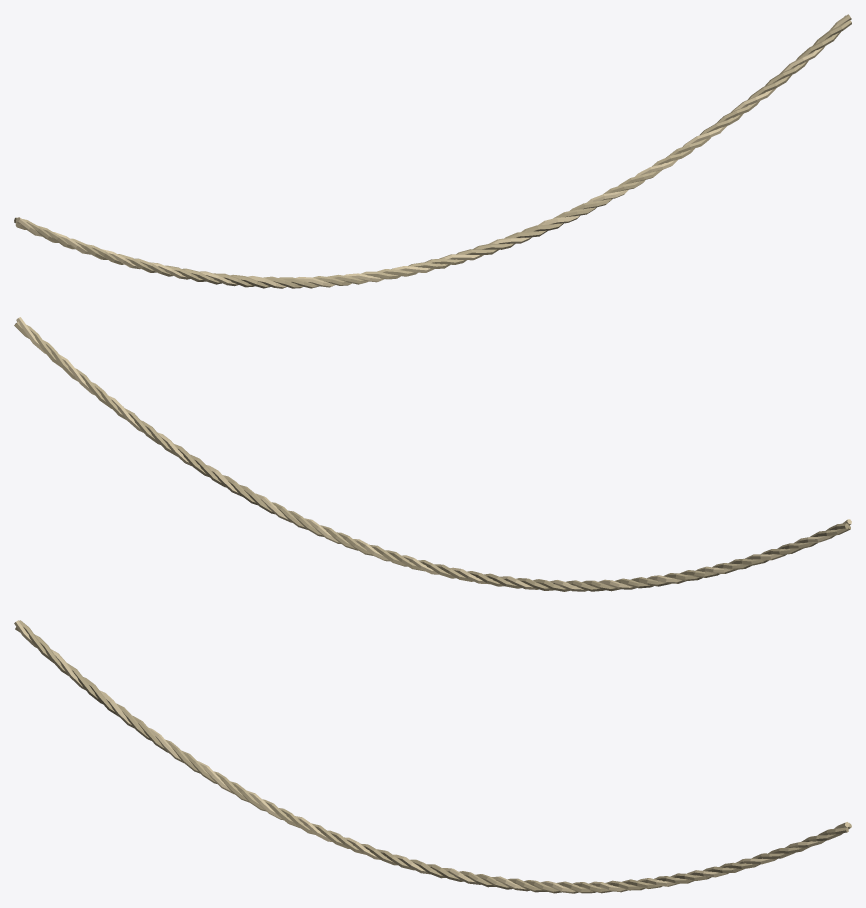
File: BridgeRope.glb
3 renders of one model, top to bottom at view 1: azimuth 30°, elevation 25°; view 2: azimuth 150°, elevation 25°; view 3: azimuth 330°, elevation 25°, orthographic.
Visible parts, largest first — view 1: BridgeRope; view 2: BridgeRope; view 3: BridgeRope.
Boxes of the visible parts, x1,y1,x2,y2 form: BridgeRope: (14,14,851,288); BridgeRope: (14,317,851,591); BridgeRope: (14,620,851,893).
Size of the model in its own units: 4.4 by 0.78 by 0.06.
